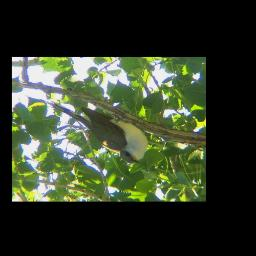Cuckoo: (44, 101, 149, 164)
